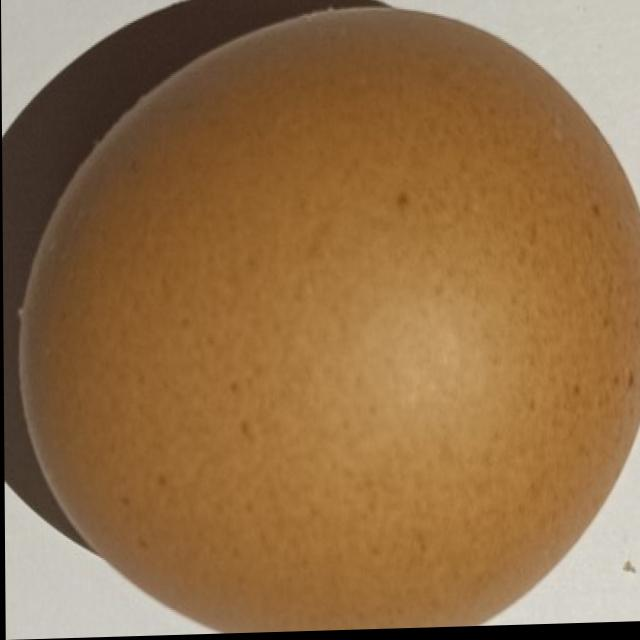unfresh: (13, 5, 640, 639)
